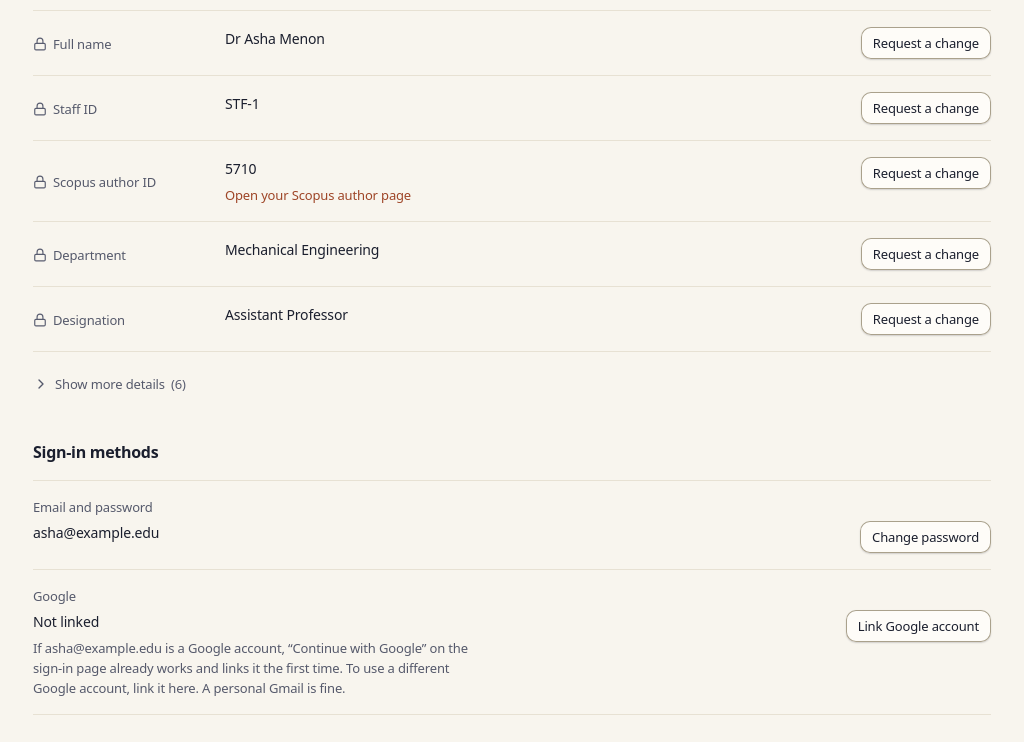
Test: Profile — what you change and what the office keeps › keeps the few details a person may want to fix in view and folds the rest
(page scrolled)
Check: the text "Biometric ID" is not shown
Click the button "Show more details (6)" at (109, 384), box x1=25 y1=368 x2=194 y2=400
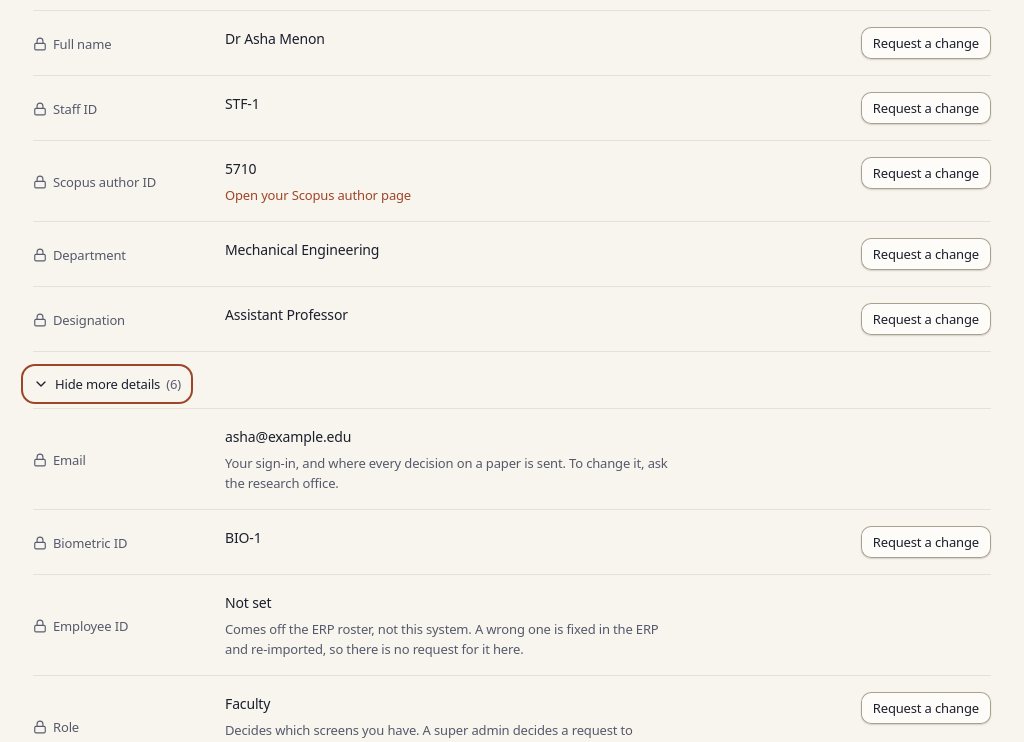
Check: the text "Biometric ID" is shown, box x1=33 y1=534 x2=127 y2=552
